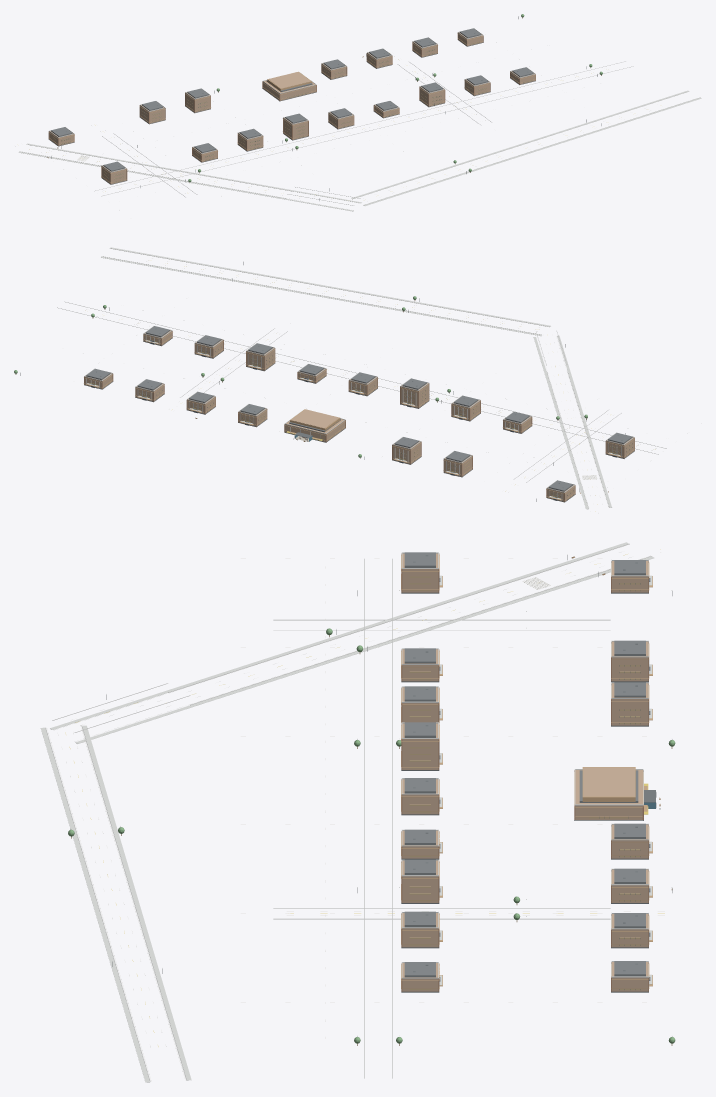
Rendered from detail-sector-nw.glb.
3 views of the same model, one above another, from view 1: azimuth 30°, elevation 25°; view 2: azimuth 150°, elevation 25°; view 3: azimuth 270°, elevation 25° (orthographic). The views are drawn at different scales.
Parts seen in each view (by area): view 1: facade_old, trim_light, curb, v4_arch_nw_arch_roof, v4_arch_nw_arch_warm, trim_dark, glass_warm, v4_arch_nw_arch_old; view 2: facade_old, trim_light, v4_arch_nw_arch_roof, curb, v4_arch_nw_arch_warm, trim_dark, v4_arch_nw_arch_light, v4_arch_nw_arch_old, glass_warm; view 3: facade_old, trim_light, v4_arch_nw_arch_roof, curb, v4_arch_nw_arch_warm, road_white, trim_dark, glass_warm, v4_arch_nw_arch_old.
Boxes of the visible parts, left/top/right/bottom form: facade_old: left=49, top=32, right=535, bottom=184; trim_light: left=18, top=28, right=701, bottom=211; curb: left=19, top=61, right=700, bottom=205; v4_arch_nw_arch_roof: left=51, top=28, right=533, bottom=171; v4_arch_nw_arch_warm: left=49, top=34, right=535, bottom=182; trim_dark: left=48, top=32, right=535, bottom=184; glass_warm: left=51, top=40, right=532, bottom=182; v4_arch_nw_arch_old: left=48, top=33, right=535, bottom=183; facade_old: left=84, top=330, right=634, bottom=501; trim_light: left=84, top=247, right=634, bottom=509; v4_arch_nw_arch_roof: left=86, top=326, right=632, bottom=491; curb: left=57, top=248, right=666, bottom=508; v4_arch_nw_arch_warm: left=84, top=332, right=634, bottom=500; trim_dark: left=84, top=328, right=634, bottom=502; v4_arch_nw_arch_light: left=86, top=336, right=621, bottom=500; v4_arch_nw_arch_old: left=84, top=331, right=634, bottom=501; glass_warm: left=104, top=338, right=632, bottom=498; facade_old: left=402, top=553, right=648, bottom=991; trim_light: left=40, top=542, right=672, bottom=1082; v4_arch_nw_arch_roof: left=404, top=552, right=645, bottom=977; curb: left=45, top=543, right=651, bottom=1081; v4_arch_nw_arch_warm: left=401, top=555, right=652, bottom=988; road_white: left=47, top=544, right=664, bottom=1081; trim_dark: left=401, top=555, right=655, bottom=992; glass_warm: left=409, top=576, right=640, bottom=989; v4_arch_nw_arch_old: left=401, top=553, right=648, bottom=991.
Size of the model in its own units: 1240 by 35.93 by 605.
